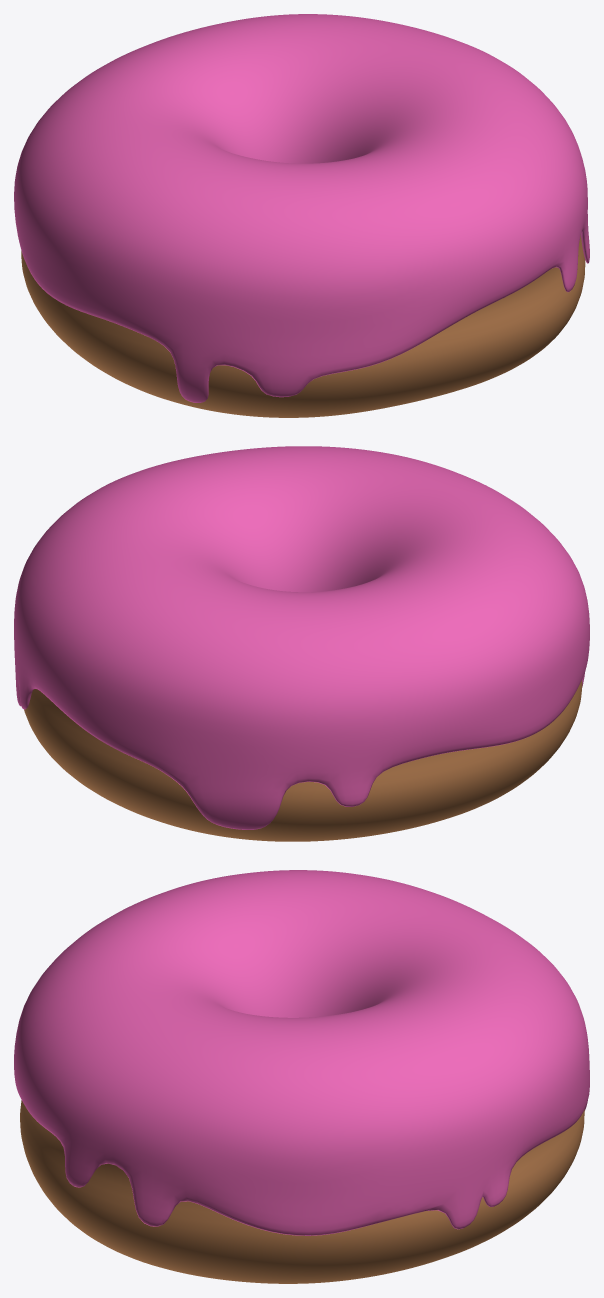
The model's file is donut_temp.glb.
The picture shows the model from 3 angles, top to bottom: view 1: azimuth 30°, elevation 25°; view 2: azimuth 150°, elevation 25°; view 3: azimuth 270°, elevation 25°; orthographic projection.
Visible parts, largest first — view 1: Icing, Donut; view 2: Icing, Donut; view 3: Icing, Donut.
Part boxes in pixels (x1,y1,x2,y2): Icing: [14, 14, 589, 402]; Donut: [21, 235, 585, 417]; Icing: [14, 446, 589, 829]; Donut: [24, 680, 582, 841]; Icing: [14, 870, 589, 1235]; Donut: [20, 1100, 584, 1283].
Size of what is drawn, in the model's own units: 0.3356 by 0.1519 by 0.3299.
